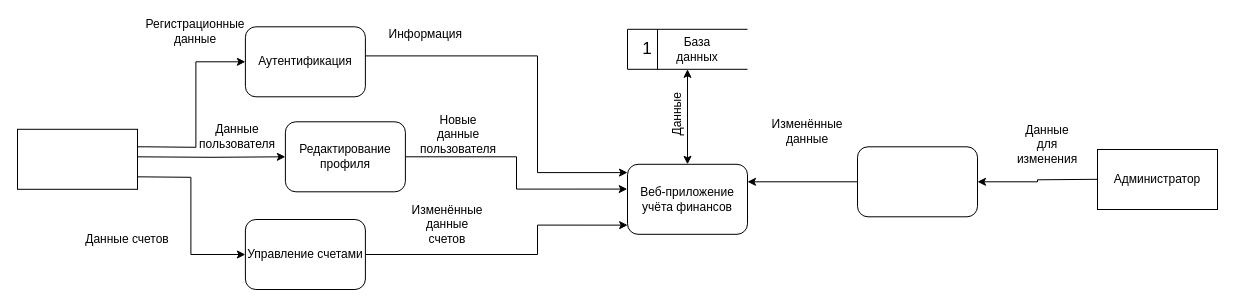
Image size: 1235x308. Some labels were removed from this diagram. Here are the shapes that lost their labels. From the top down, the centre of each, then its label:
the point at 77,158: Поьзователь
the point at 917,181: Управление пользователями
